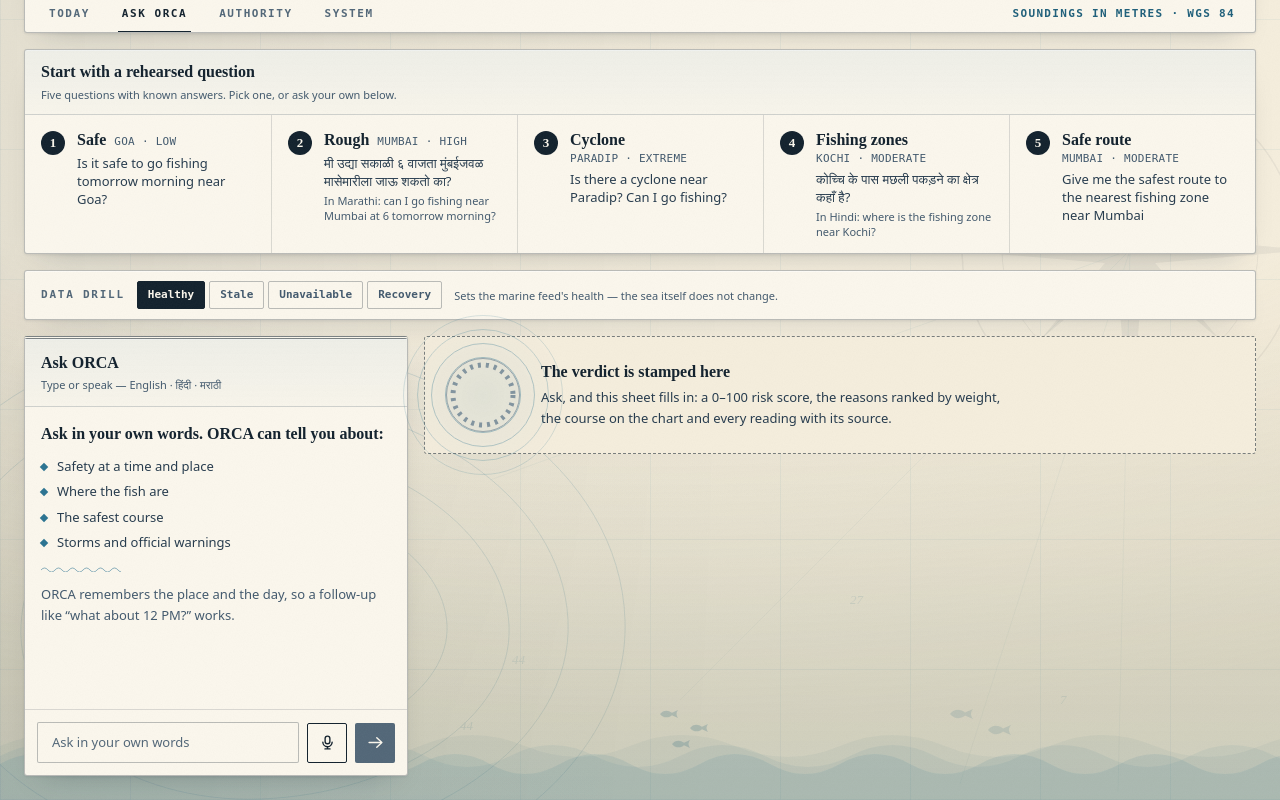
Scenario: the Ask sheet's states › keeps the last answer when /api/chat fails, says so, and asks the same question again on retry
(page scrolled)
Type "Can I go at 6 AM?" into the field named "Your question".
click(168, 743); type("Can I go at 6 AM?")  # box [37,722,299,763]
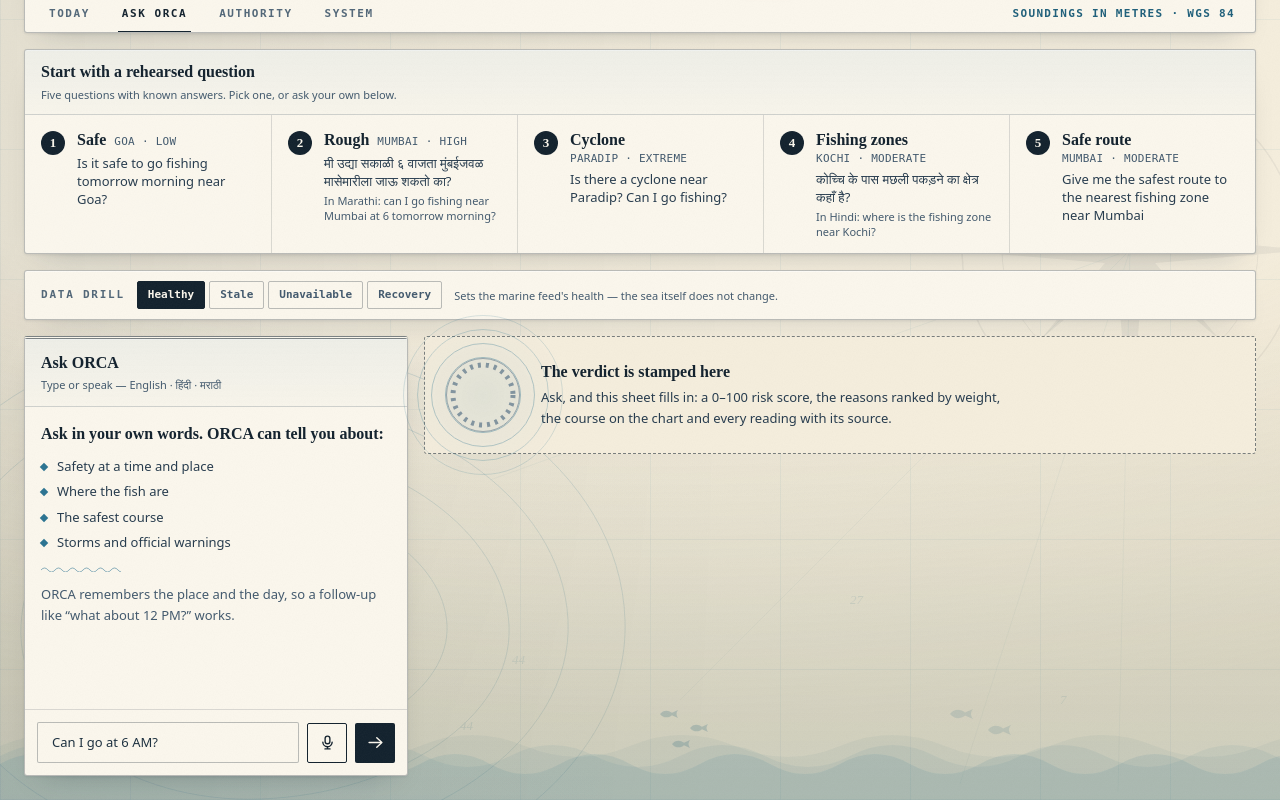
Submit the form named "Your question", box [25,709,407,775]
(page scrolled)
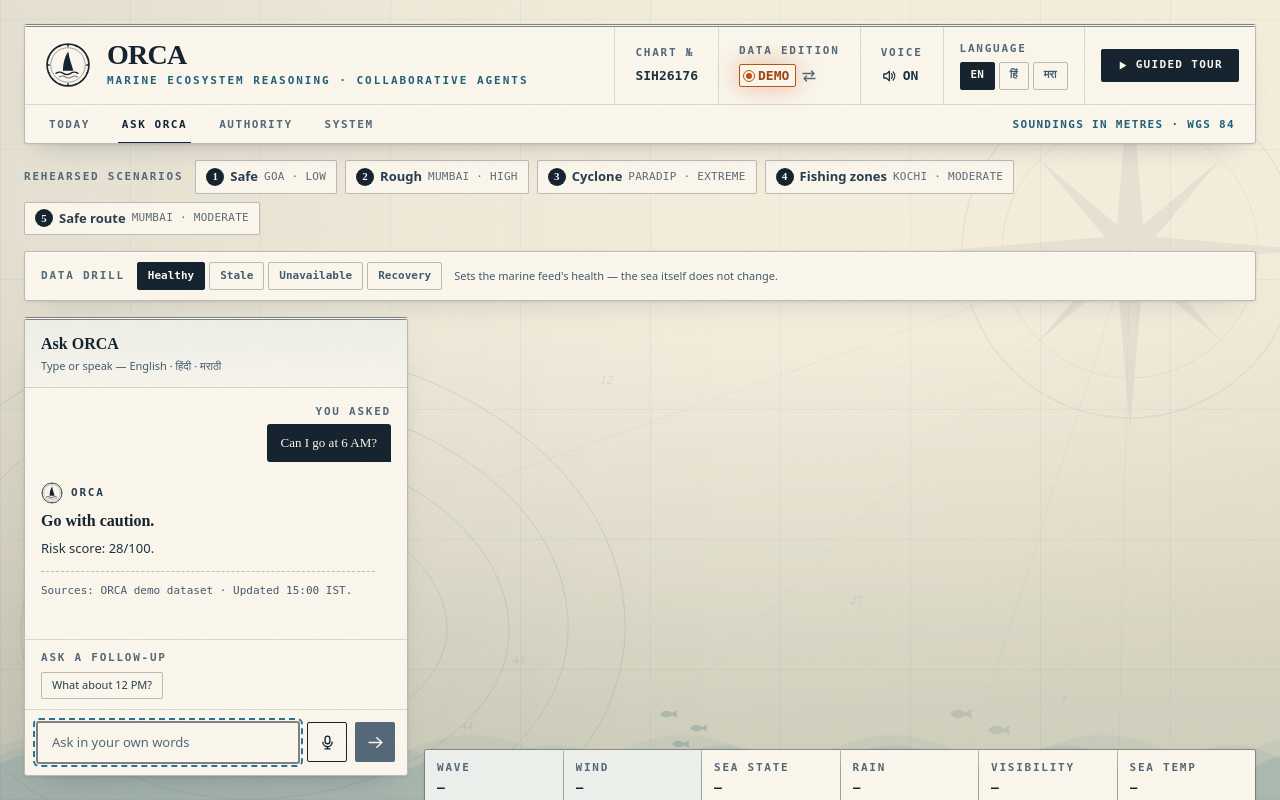
expect the text "Go with caution." is shown: met, box [41,512,154,529]
Type "What about 12 PM?" into the field named "Your question".
click(168, 742); type("What about 12 PM?")  # box [37,722,299,763]
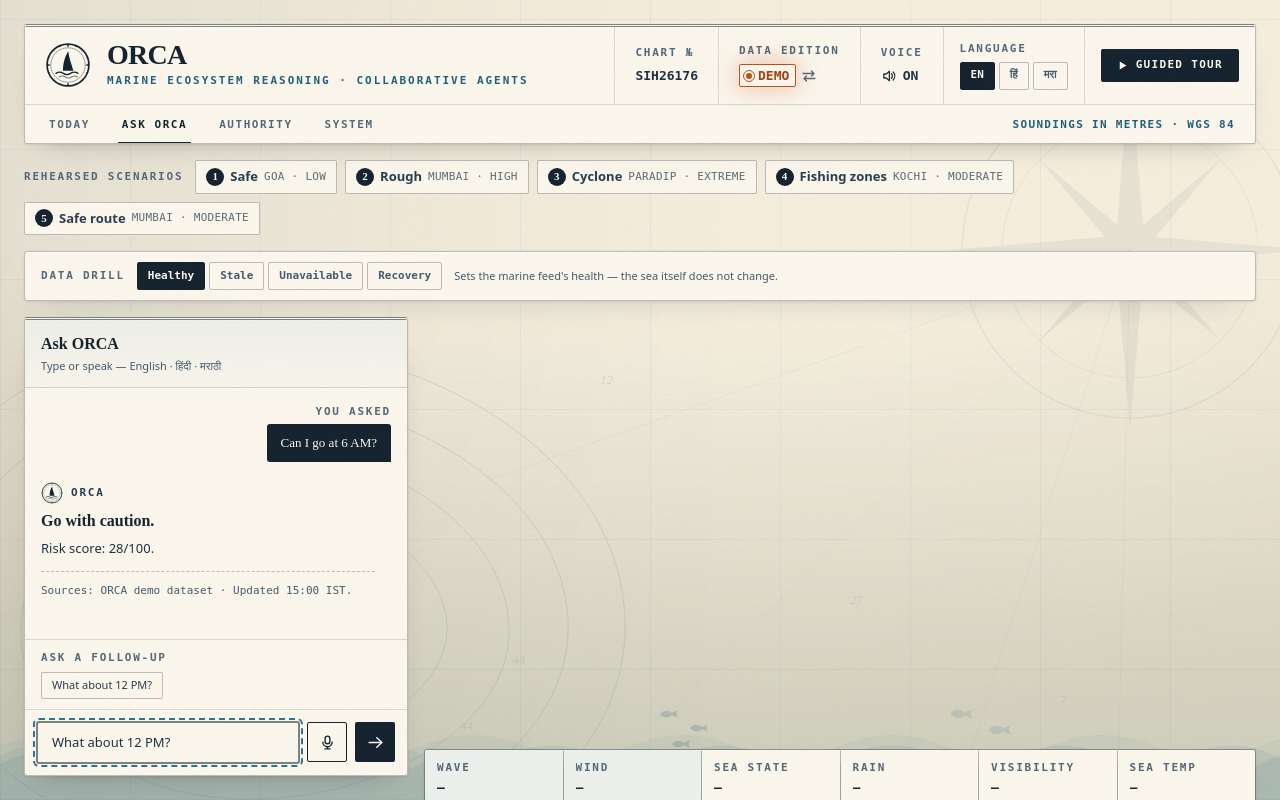
Submit the form named "Your question", box [25,708,407,775]
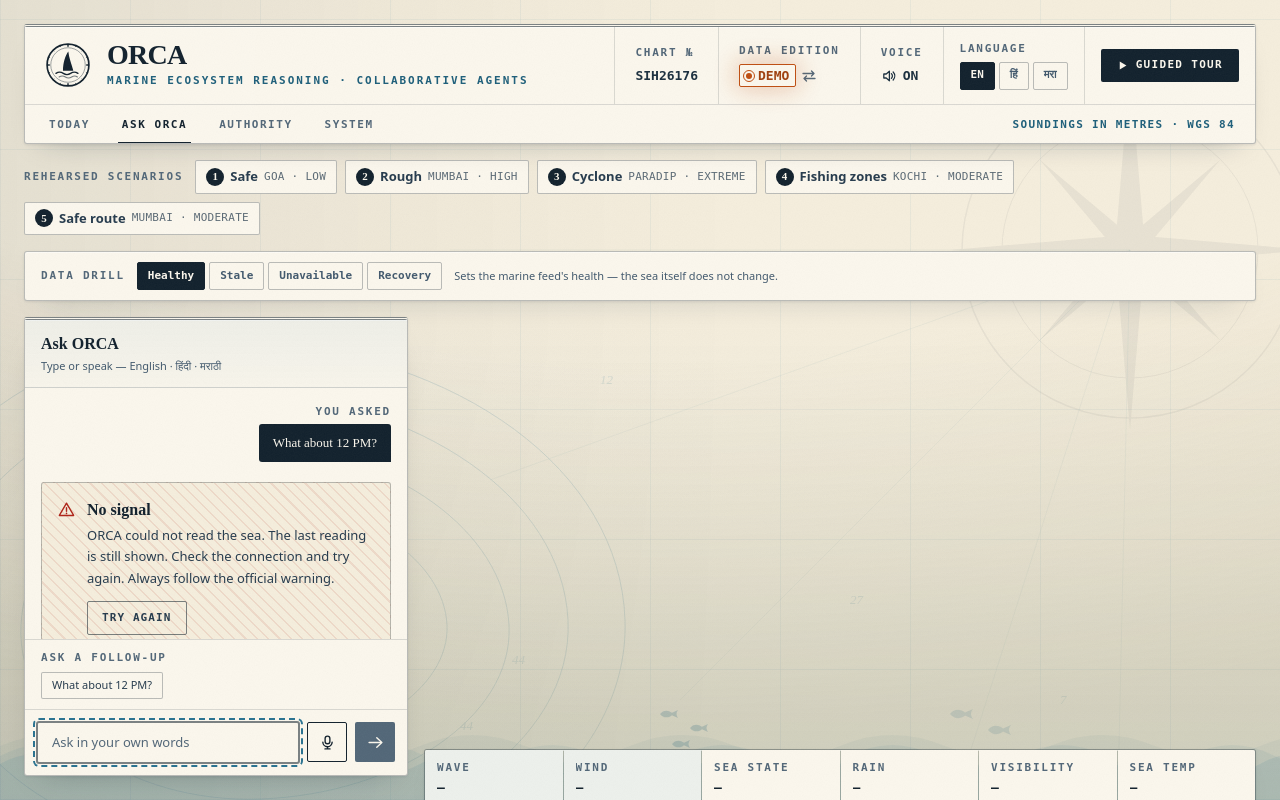
expect the heading "No signal" is shown: met, box [87,501,151,518]
expect the text "ORCA could not read the sea. The last reading is still shown. Check the connection and try again. Always follow the offi" is shown: met, box [87,526,366,587]
Click the button "Try again".
click(137, 618)  # box [87,601,186,635]
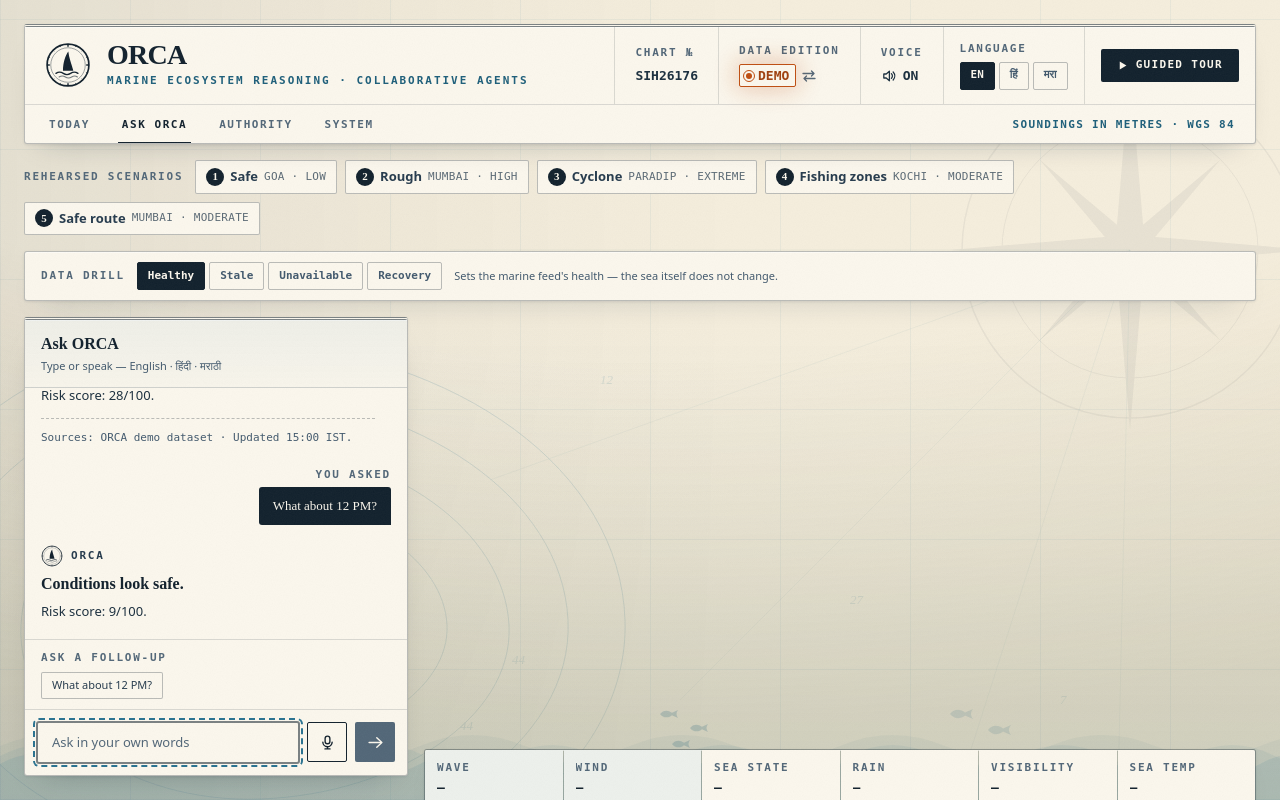
expect the text "What about 12 PM?" is shown once: met, box [259,487,391,525]
expect the text "Conditions look safe." is shown: met, box [41,575,184,592]
expect the message is gone: met
